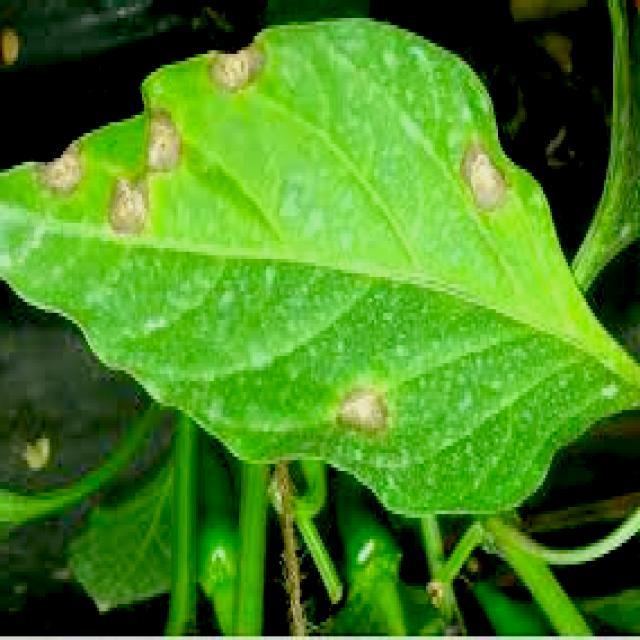Bercak Daun Serkospora: (2, 14, 640, 525)
